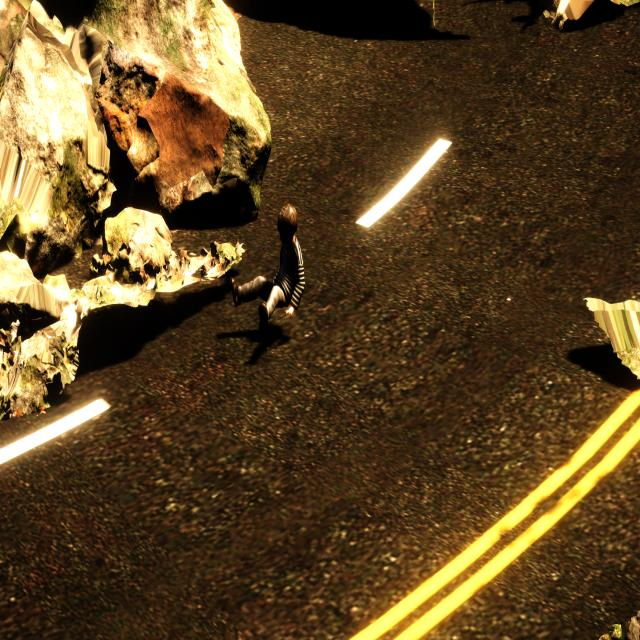Human: (232, 200, 310, 334)
